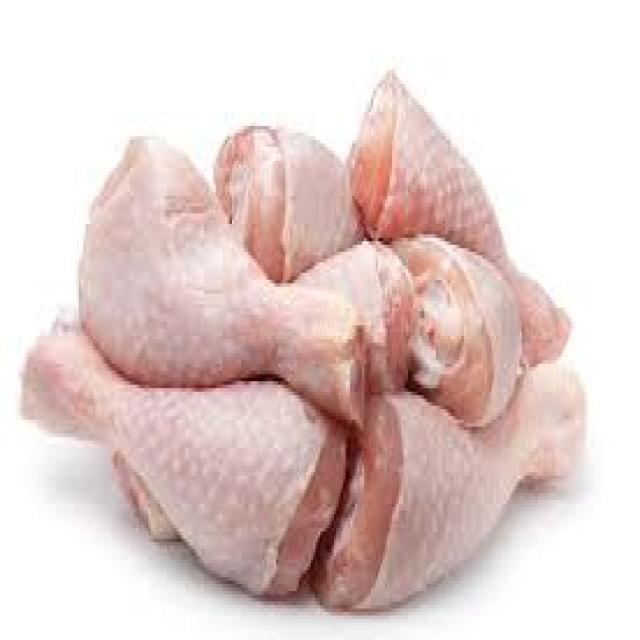leg: (29, 304, 325, 598), (97, 127, 357, 406), (354, 70, 572, 361), (340, 364, 594, 598), (203, 104, 355, 286), (387, 226, 520, 422)
